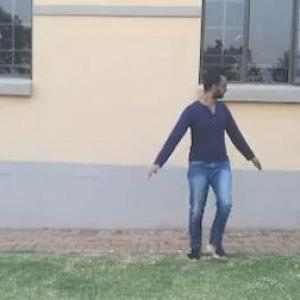land: (150, 63, 280, 274)
